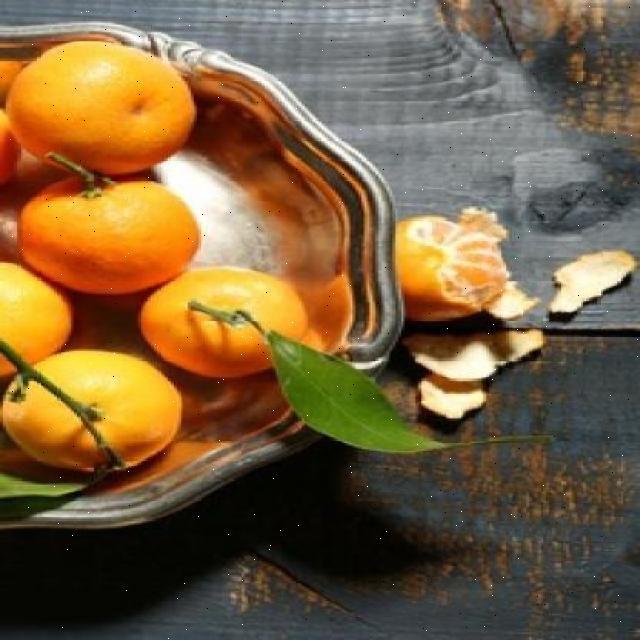Orange: (4, 38, 196, 175), (16, 163, 200, 294), (0, 348, 182, 472), (137, 263, 308, 379), (0, 260, 72, 389), (0, 100, 17, 191), (1, 56, 24, 108)
